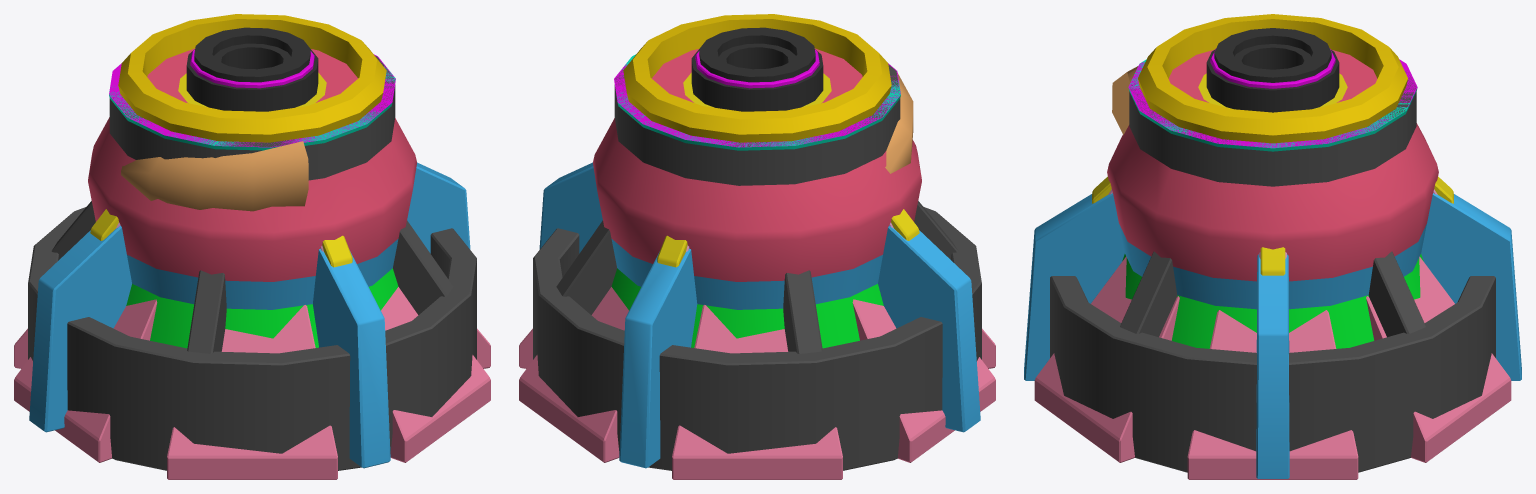
Rendered from Motor_Pieces.fbx.
3 renders of one model, left to right at view 1: azimuth 30°, elevation 25°; view 2: azimuth 150°, elevation 25°; view 3: azimuth 270°, elevation 25°, orthographic.
Visible parts, largest first — view 1: MotorP_Lv6, MotorP_Lv8, MotorP_Lv7, MotorP_Lv2, MotorP_Lv3, MotorP_Lv5, MotorP_Lv1; view 2: MotorP_Lv6, MotorP_Lv8, MotorP_Lv7, MotorP_Lv2, MotorP_Lv3, MotorP_Lv5, MotorP_Lv1; view 3: MotorP_Lv6, MotorP_Lv8, MotorP_Lv7, MotorP_Lv2, MotorP_Lv3, MotorP_Lv5, MotorP_Lv1.
Boxes of the visible parts, left/top/right/bottom form: MotorP_Lv6: left=29, top=27, right=470, bottom=468; MotorP_Lv8: left=28, top=49, right=476, bottom=470; MotorP_Lv7: left=14, top=66, right=490, bottom=479; MotorP_Lv2: left=118, top=14, right=386, bottom=142; MotorP_Lv3: left=126, top=268, right=398, bottom=348; MotorP_Lv5: left=109, top=49, right=395, bottom=147; MotorP_Lv1: left=90, top=72, right=352, bottom=267; MotorP_Lv6: left=539, top=27, right=980, bottom=468; MotorP_Lv8: left=533, top=49, right=981, bottom=470; MotorP_Lv7: left=519, top=54, right=995, bottom=479; MotorP_Lv2: left=623, top=14, right=891, bottom=142; MotorP_Lv3: left=611, top=268, right=883, bottom=348; MotorP_Lv5: left=614, top=49, right=900, bottom=147; MotorP_Lv1: left=657, top=72, right=919, bottom=267; MotorP_Lv6: left=1024, top=28, right=1521, bottom=478; MotorP_Lv8: left=1050, top=50, right=1495, bottom=472; MotorP_Lv7: left=1034, top=59, right=1511, bottom=479; MotorP_Lv2: left=1138, top=14, right=1407, bottom=143; MotorP_Lv3: left=1122, top=254, right=1423, bottom=348; MotorP_Lv5: left=1128, top=49, right=1417, bottom=147; MotorP_Lv1: left=1092, top=73, right=1453, bottom=275.
Bounding box in the file's own units: 3 × 2.21 × 3.
